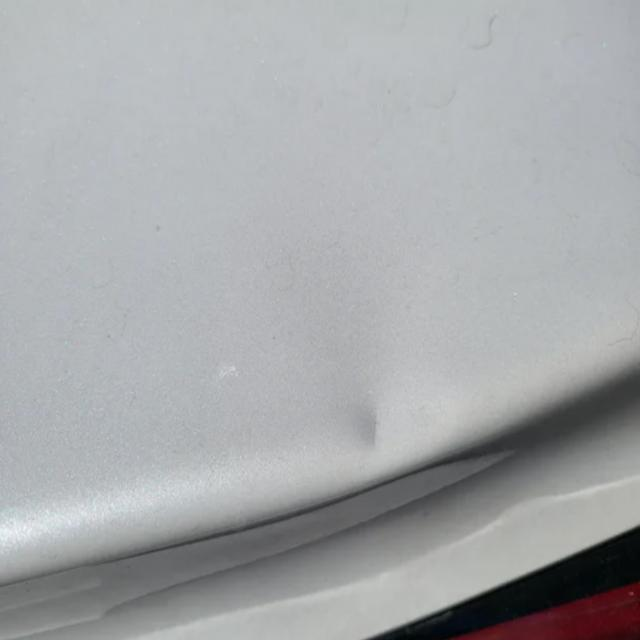dents: (321, 384, 484, 482)
